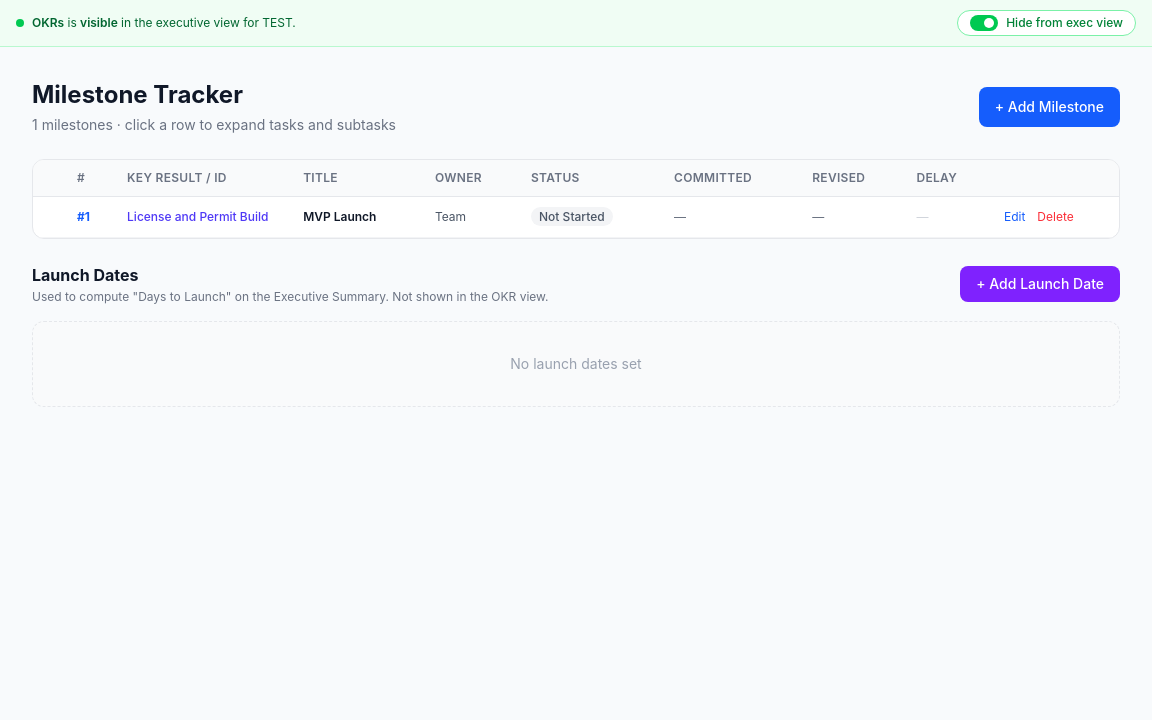
Test: OKREditor › T-32.06: Edit button opens modal pre-populated with milestone title
The width and height of the screenshot is (1152, 720).
Check: the text "MVP Launch" is shown, box [291,196,423,238]
Click the button "Edit". click: [1015, 217]
box: [1004,209,1025,225]
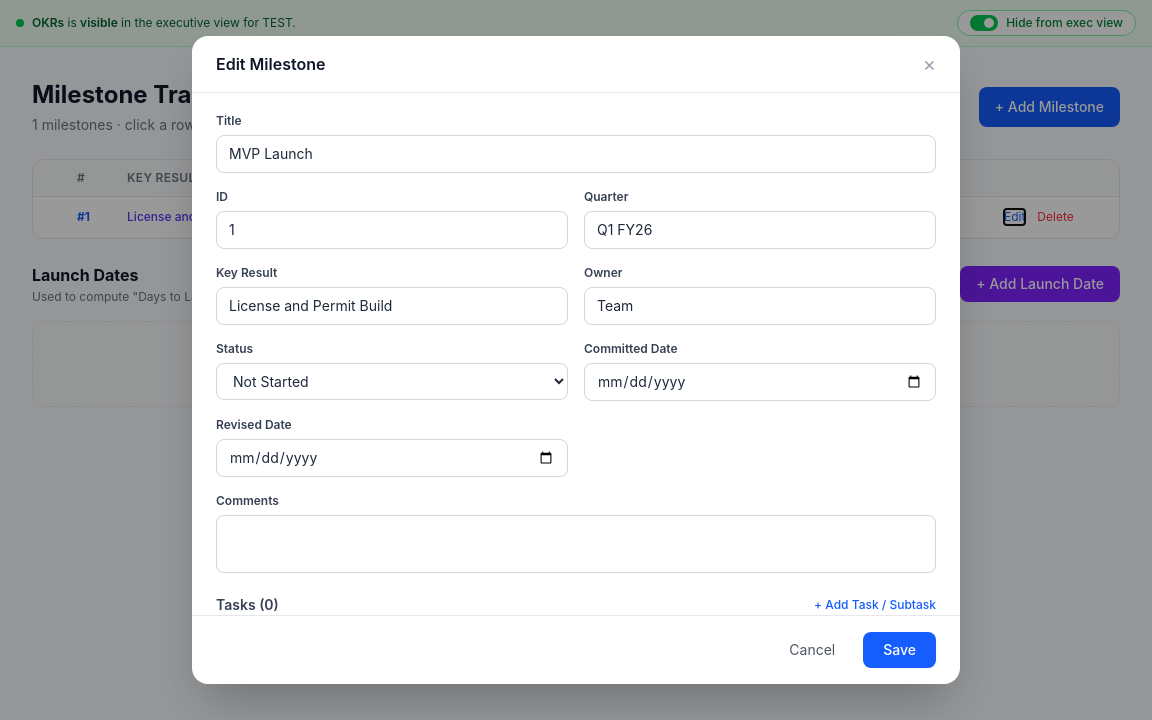
Check: the heading "Edit Milestone" is shown, box [216,52,325,76]
